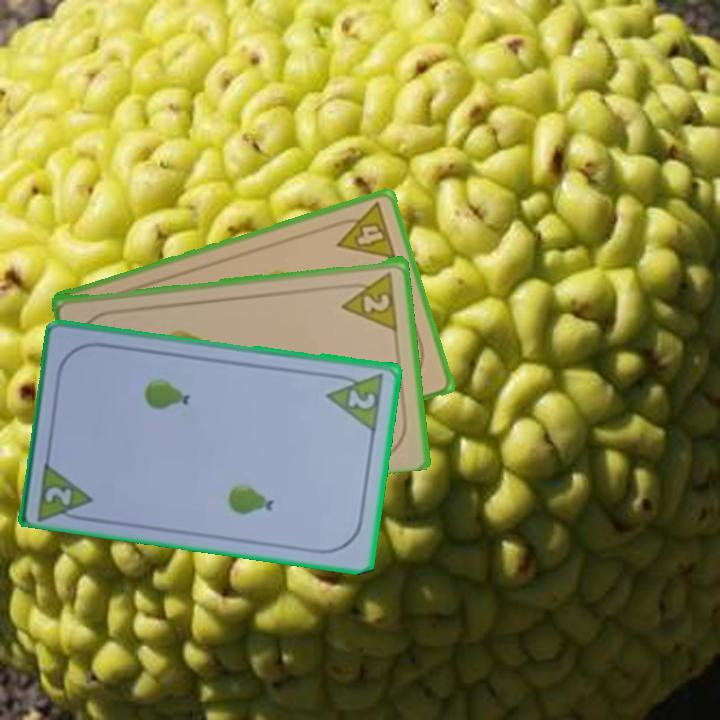2p: (324, 369, 388, 434), (337, 268, 401, 331), (41, 482, 75, 509)
4p: (328, 199, 399, 263)
